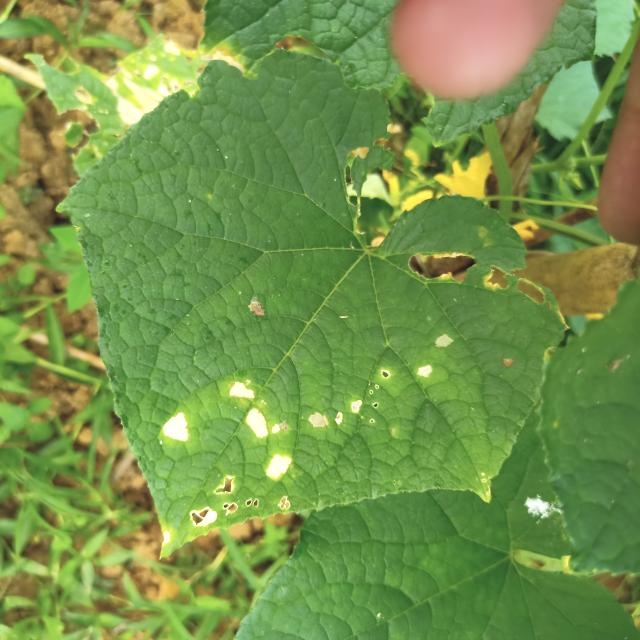disease_cucumber: (161, 318, 476, 532)
